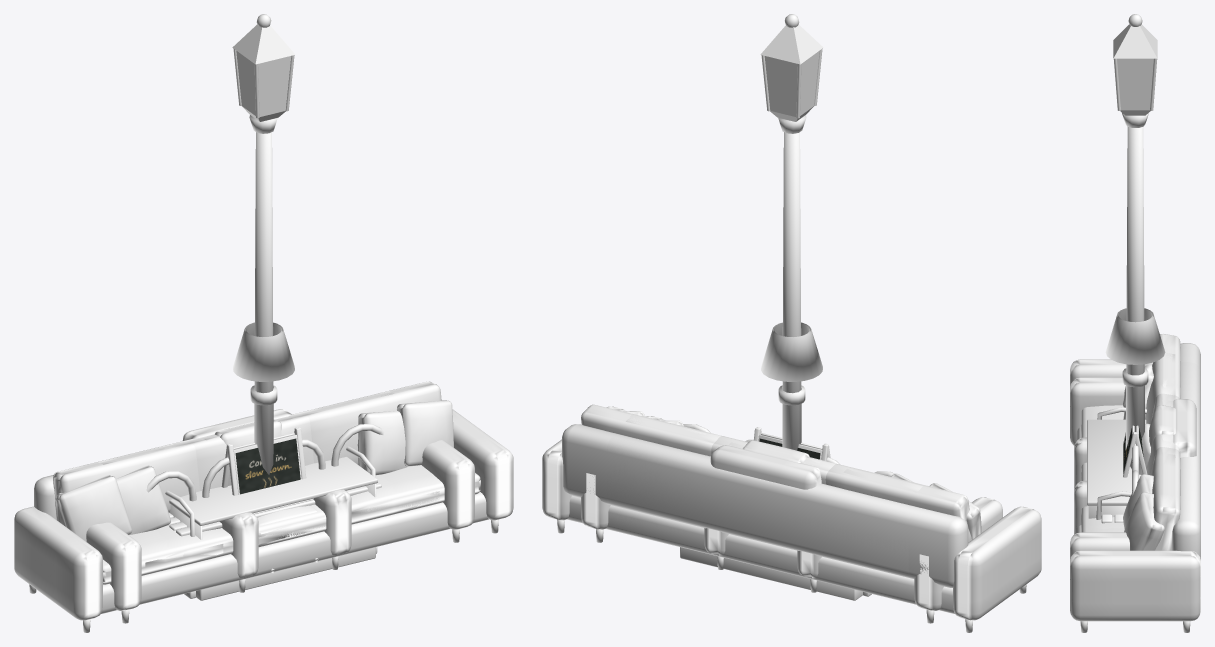
The model's file is props.glb.
The picture shows the model from 3 angles, left to right: view 1: azimuth 30°, elevation 25°; view 2: azimuth 150°, elevation 25°; view 3: azimuth 270°, elevation 25°; orthographic projection. The views are drawn at different scales.
Parts seen in each view (by area): view 1: SofaLong, Sofa, StreetLamp, PastryCase, Armchair, SandwichBoard, FloorLamp, BikeRack, Bench; view 2: SofaLong, Sofa, StreetLamp, Armchair, FloorLamp, PastryCase, SandwichBoard; view 3: SofaLong, StreetLamp, Sofa, PastryCase, Armchair, FloorLamp, SandwichBoard, Bench, BikeRack.
Part boxes in pixels (left/top/right/bottom): SofaLong: left=14, top=381, right=513, bottom=632; Sofa: left=86, top=391, right=474, bottom=623; StreetLamp: left=232, top=14, right=295, bottom=474; PastryCase: left=169, top=457, right=377, bottom=600; Armchair: left=182, top=409, right=351, bottom=592; SandwichBoard: left=221, top=427, right=306, bottom=495; FloorLamp: left=233, top=322, right=294, bottom=381; BikeRack: left=146, top=424, right=383, bottom=501; Bench: left=165, top=446, right=381, bottom=598; SofaLong: left=542, top=404, right=1041, bottom=632; Sofa: left=581, top=415, right=1002, bottom=623; StreetLamp: left=760, top=14, right=823, bottom=450; Armchair: left=704, top=440, right=821, bottom=592; FloorLamp: left=761, top=322, right=822, bottom=381; PastryCase: left=680, top=547, right=862, bottom=600; SandwichBoard: left=754, top=427, right=830, bottom=461; SofaLong: left=1070, top=334, right=1200, bottom=632; StreetLamp: left=1113, top=14, right=1157, bottom=449; Sofa: left=1070, top=353, right=1200, bottom=559; PastryCase: left=1087, top=419, right=1146, bottom=518; Armchair: left=1074, top=399, right=1196, bottom=534; FloorLamp: left=1105, top=308, right=1165, bottom=364; SandwichBoard: left=1123, top=425, right=1147, bottom=477; Bench: left=1096, top=407, right=1146, bottom=523; BikeRack: left=1132, top=443, right=1138, bottom=495.
Bounding box in the file's own units: 3.4 × 4.05 × 0.92.
Materials: 37 (1 with a texture image).
